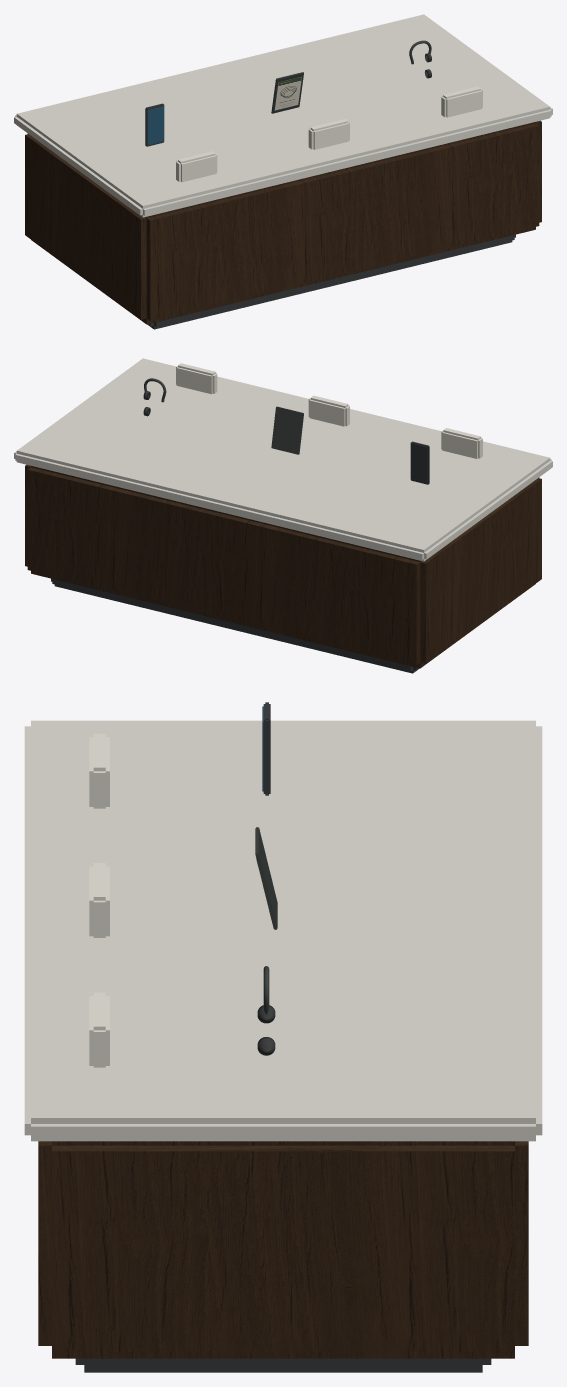
File: mobile_experience_v293.glb
3 renders of one model, top to bottom at view 1: azimuth 30°, elevation 25°; view 2: azimuth 150°, elevation 25°; view 3: azimuth 270°, elevation 25°, orthographic. The views are drawn at different scales.
Parts seen in each view (by area): view 1: mobile_experience_v293_CC0_Smoked_walnut, mobile_experience_v293_Honed_solid_surface, mobile_experience_v293_Paper_page_edges, mobile_experience_v293_Anodised_graphite, mobile_experience_v293_V23_original_editorial, mobile_experience_v293_FY21_display_screen, mobile_experience_v293_V23_ceramic_graphite; view 2: mobile_experience_v293_CC0_Smoked_walnut, mobile_experience_v293_Honed_solid_surface, mobile_experience_v293_Paper_page_edges, mobile_experience_v293_Anodised_graphite, mobile_experience_v293_V23_ceramic_graphite, mobile_experience_v293_Anodised_graphite.001; view 3: mobile_experience_v293_Honed_solid_surface, mobile_experience_v293_CC0_Smoked_walnut, mobile_experience_v293_Anodised_graphite, mobile_experience_v293_Paper_page_edges, mobile_experience_v293_V23_ceramic_graphite.
Boxes of the visible parts, x1,y1,x2,y2 form: mobile_experience_v293_CC0_Smoked_walnut: [25, 120, 541, 324]; mobile_experience_v293_Honed_solid_surface: [14, 14, 552, 217]; mobile_experience_v293_Paper_page_edges: [176, 86, 482, 182]; mobile_experience_v293_Anodised_graphite: [147, 234, 515, 329]; mobile_experience_v293_V23_original_editorial: [274, 76, 301, 110]; mobile_experience_v293_FY21_display_screen: [147, 106, 164, 145]; mobile_experience_v293_V23_ceramic_graphite: [271, 72, 303, 113]; mobile_experience_v293_CC0_Smoked_walnut: [25, 464, 541, 668]; mobile_experience_v293_Honed_solid_surface: [14, 358, 552, 561]; mobile_experience_v293_Paper_page_edges: [176, 363, 482, 458]; mobile_experience_v293_Anodised_graphite: [51, 578, 419, 673]; mobile_experience_v293_V23_ceramic_graphite: [271, 406, 303, 454]; mobile_experience_v293_Anodised_graphite.001: [410, 441, 429, 484]; mobile_experience_v293_Honed_solid_surface: [24, 720, 542, 1141]; mobile_experience_v293_CC0_Smoked_walnut: [38, 1141, 528, 1358]; mobile_experience_v293_Anodised_graphite: [75, 1358, 491, 1372]; mobile_experience_v293_Paper_page_edges: [89, 733, 109, 1067]; mobile_experience_v293_V23_ceramic_graphite: [255, 827, 277, 929].
Size of the model in its own units: 2.8 by 1.16 by 1.52.
10 materials, 2 textured.
